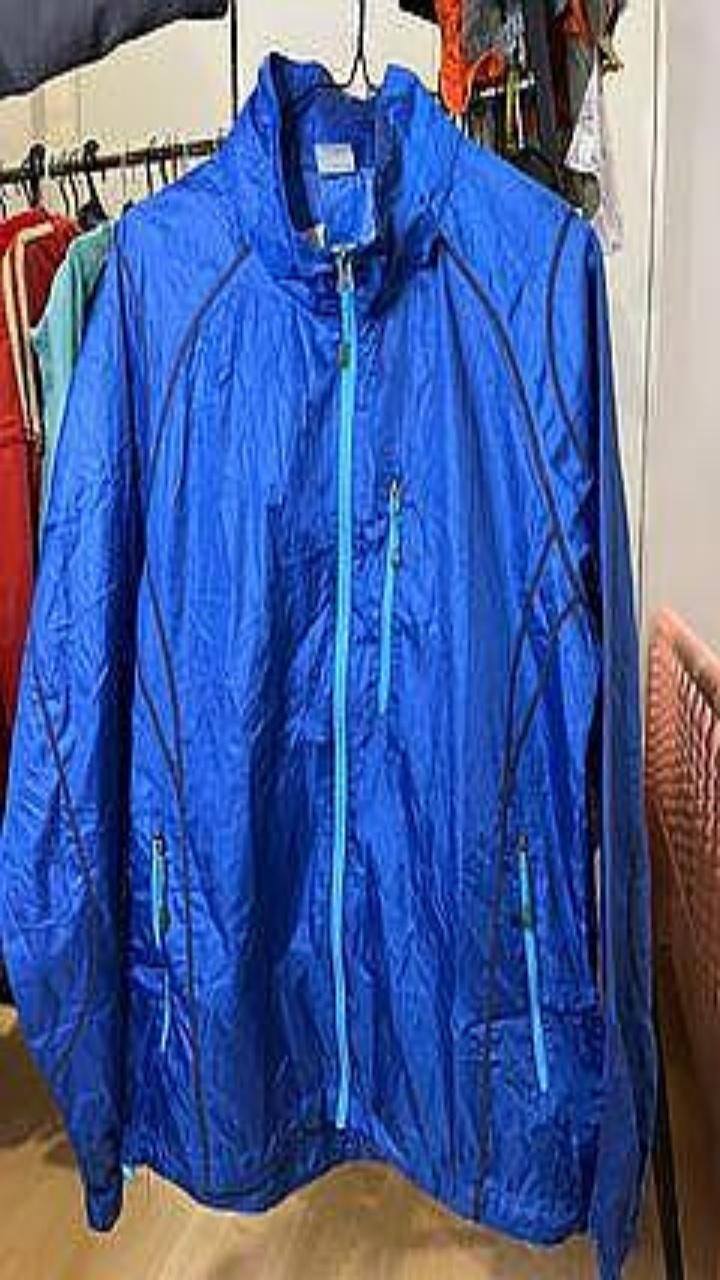Sports_Jacket: (0, 56, 653, 1279)
